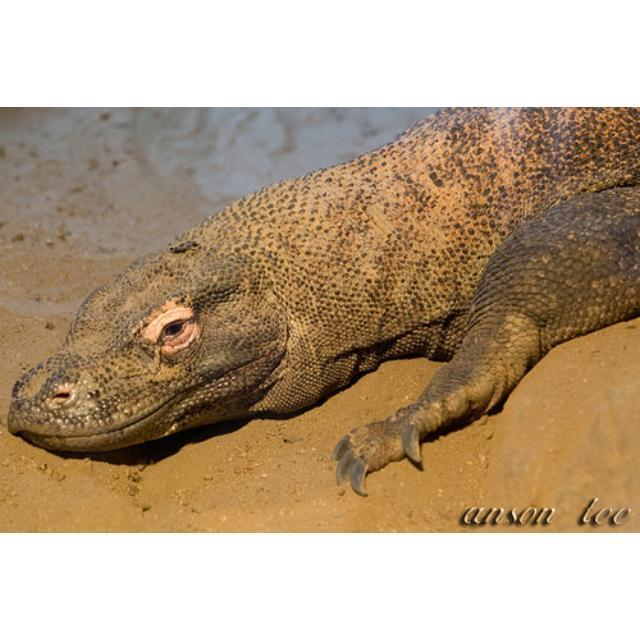KomodoDragon: (11, 107, 638, 499)
